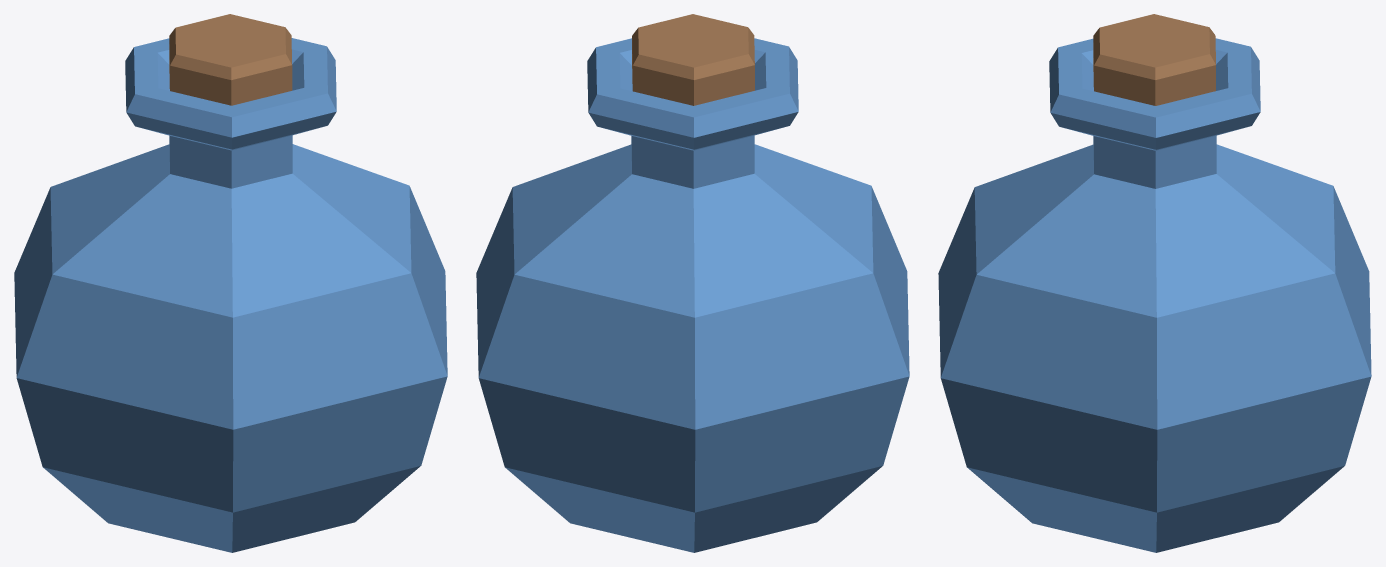
The model's file is Blue_Potion_9.fbx.
The picture shows the model from 3 angles, left to right: view 1: azimuth 30°, elevation 25°; view 2: azimuth 150°, elevation 25°; view 3: azimuth 270°, elevation 25°; orthographic projection.
Parts seen in each view (by area): view 1: Blue_Potion_9; view 2: Blue_Potion_9; view 3: Blue_Potion_9.
Part boxes in pixels (x1,y1,x2,y2): Blue_Potion_9: (14, 14, 447, 552); Blue_Potion_9: (476, 14, 909, 552); Blue_Potion_9: (938, 14, 1371, 552).
Bounding box in the file's own units: 20.73 × 20.77 × 18.05.
